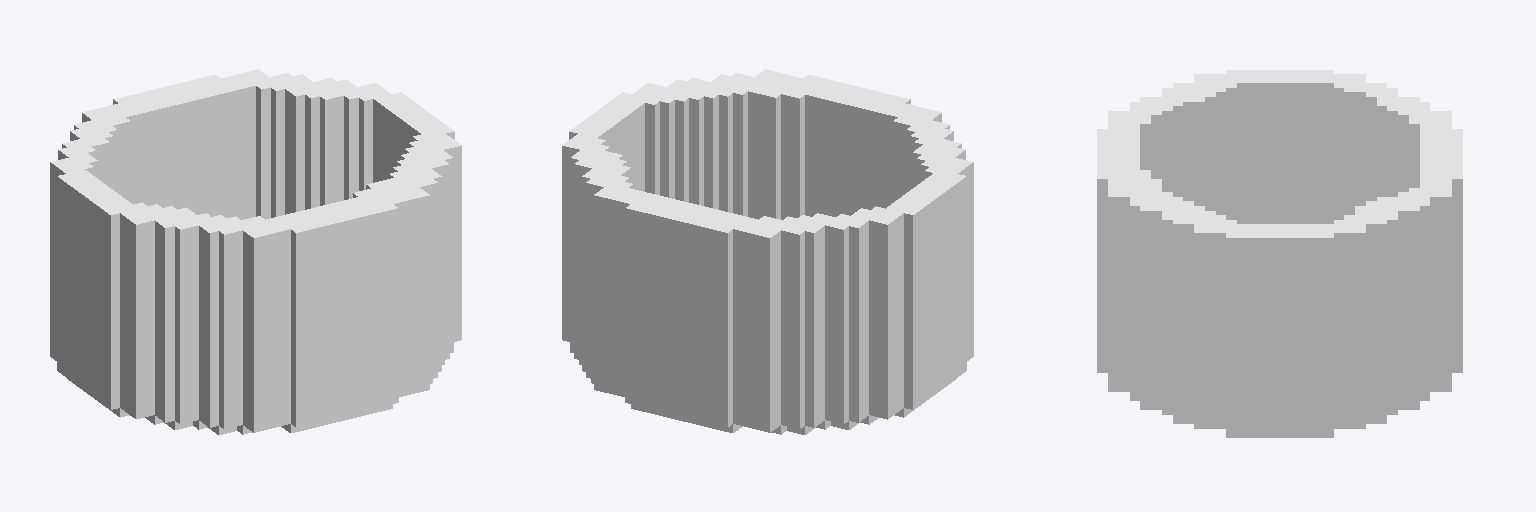
File: ice_empty.obj
3 renders of one model, left to right at view 1: azimuth 30°, elevation 25°; view 2: azimuth 150°, elevation 25°; view 3: azimuth 270°, elevation 25°, orthographic.
Parts seen in each view (by area): view 1: object 1; view 2: object 1; view 3: object 1.
Boxes of the visible parts, x1,y1,x2,y2 form: object 1: [50, 69, 461, 434]; object 1: [562, 69, 973, 434]; object 1: [1097, 70, 1462, 437].
Bounding box in the file's own units: 3.7 × 2.1 × 3.4.